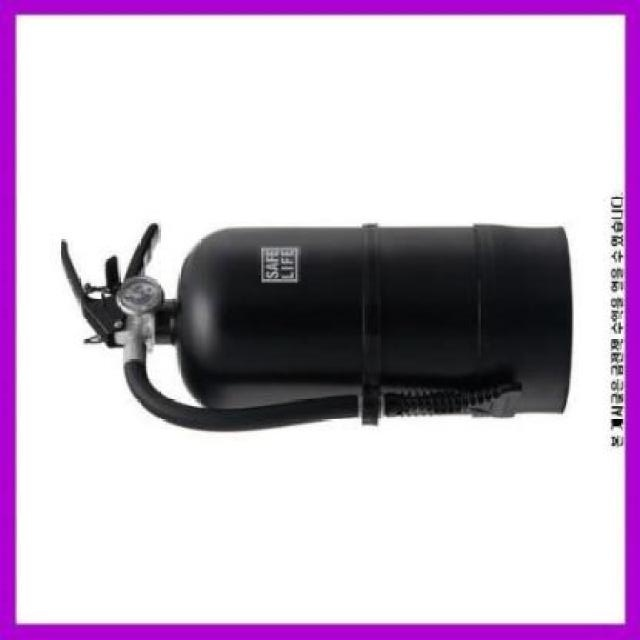fire extinguisher: (58, 221, 573, 434)
